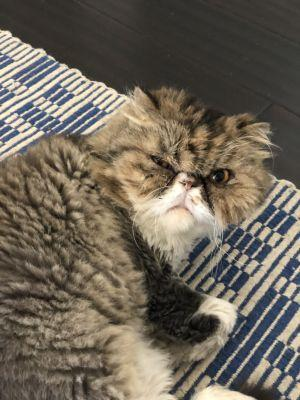persian: (102, 85, 277, 251)
